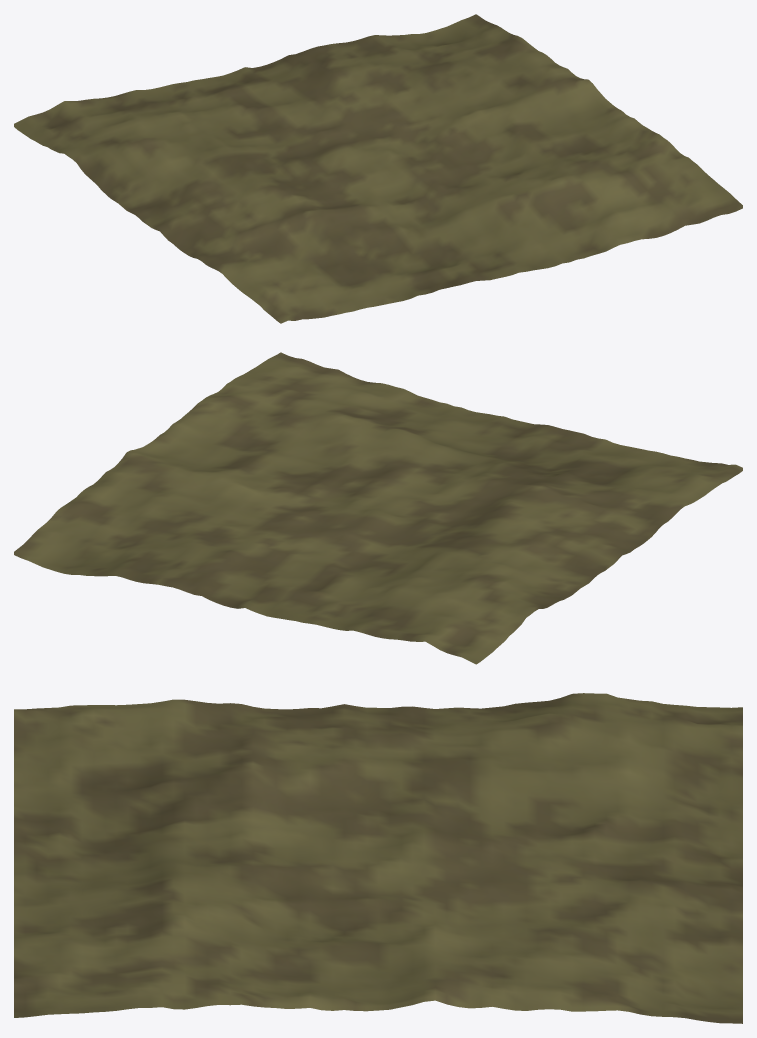
Rendered from land_f_01_09.glb.
3 renders of one model, top to bottom at view 1: azimuth 30°, elevation 25°; view 2: azimuth 150°, elevation 25°; view 3: azimuth 270°, elevation 25°, orthographic. The views are drawn at different scales.
Parts seen in each view (by area): view 1: land_f_01_09; view 2: land_f_01_09; view 3: land_f_01_09.
Part boxes in pixels (x1,y1,x2,y2): land_f_01_09: [14, 14, 742, 323]; land_f_01_09: [14, 352, 742, 664]; land_f_01_09: [14, 693, 742, 1023].
Bounding box in the file's own units: 3840 × 255 × 3840.
